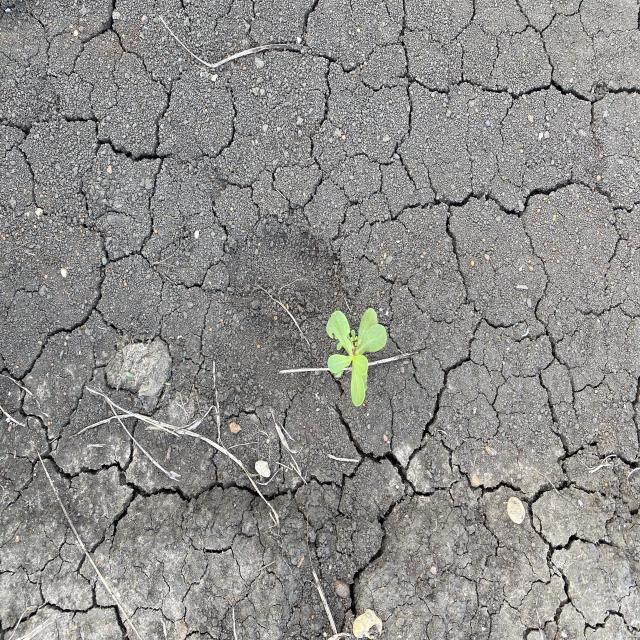Purslane: (325, 304, 390, 410)
